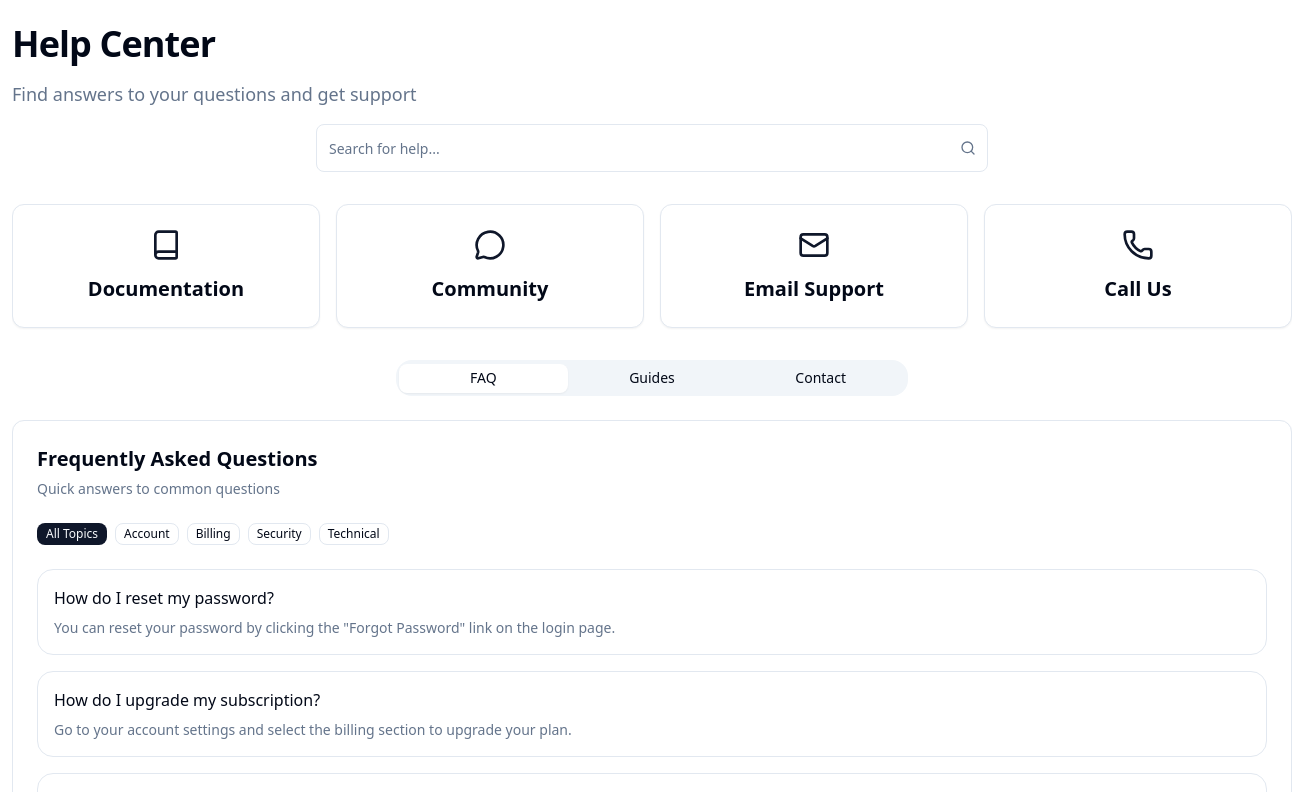
Test: HelpPage › shows no results message when search yields no matches
This screenshot has width=1292, height=792.
Type "nonexistent topic" into the field with placeholder "Search for help...". click: [652, 148]
box: [316,124,988,172]
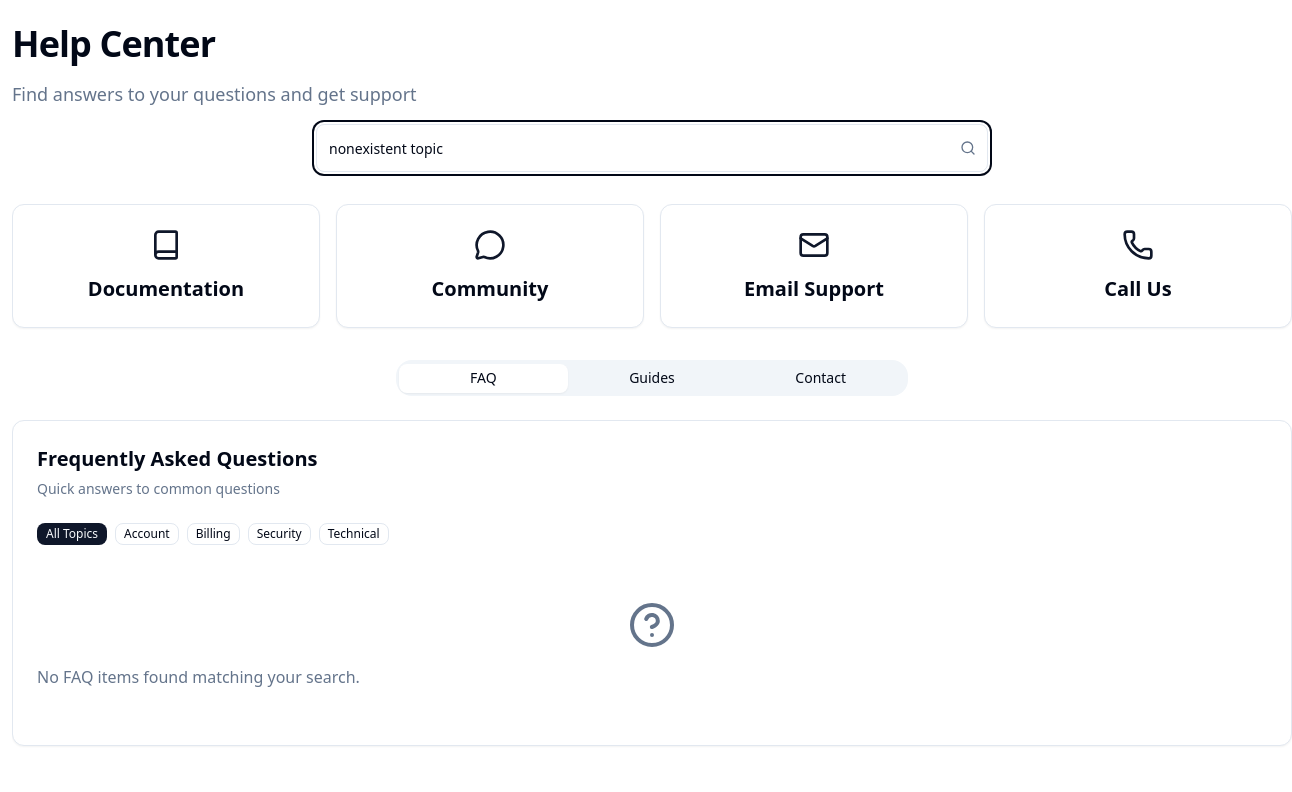
Check: the text "No FAQ items found matching your search." is shown, box [37,666,360,688]
